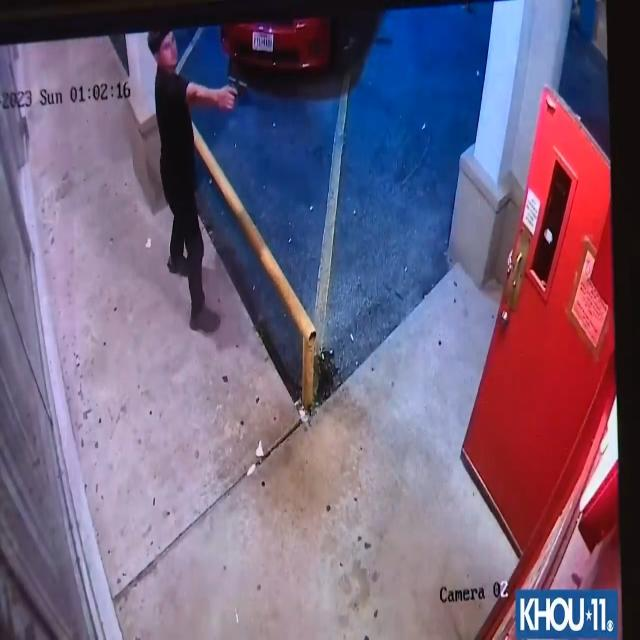Gun_Holder: (218, 67, 252, 113)
Person: (137, 21, 230, 338)
